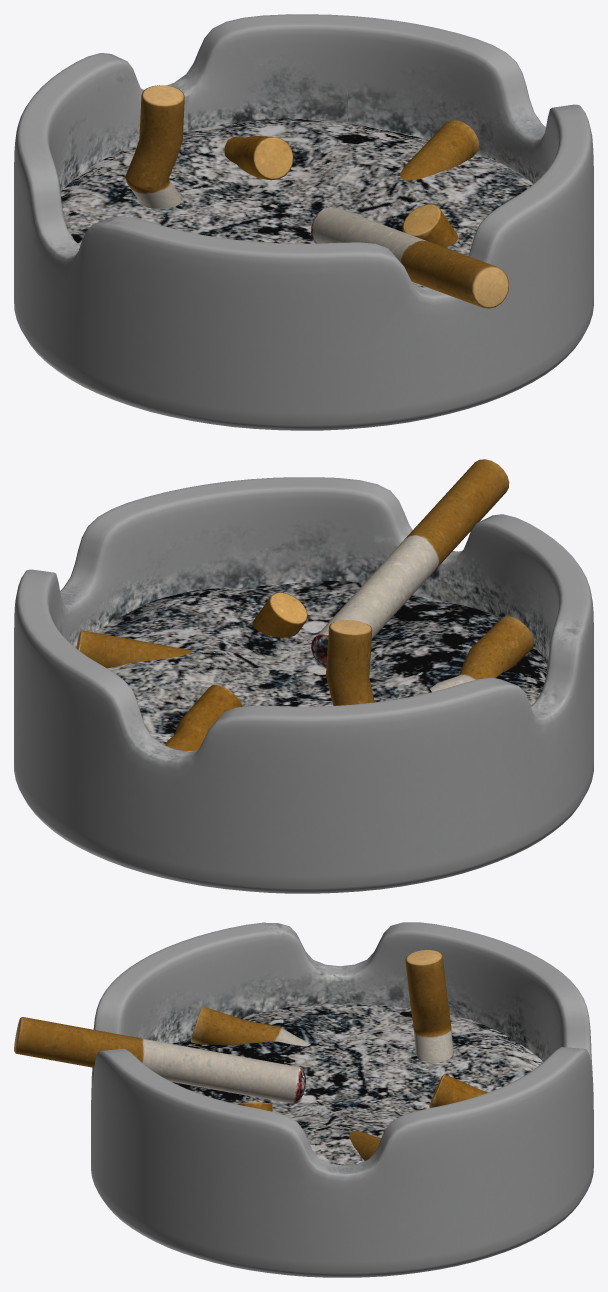
Rendered from ashtray.fbx.
The picture shows the model from 3 angles, top to bottom: view 1: azimuth 30°, elevation 25°; view 2: azimuth 150°, elevation 25°; view 3: azimuth 270°, elevation 25°; orthographic projection. The views are drawn at different scales.
Visible parts, largest first — view 1: ashtray; view 2: ashtray; view 3: ashtray.
Part boxes in pixels (x1,y1,x2,y2): ashtray: (14, 14, 593, 430); ashtray: (14, 459, 593, 893); ashtray: (14, 922, 593, 1277).
Bounding box in the file's own units: 6151 × 2471 × 7091.
